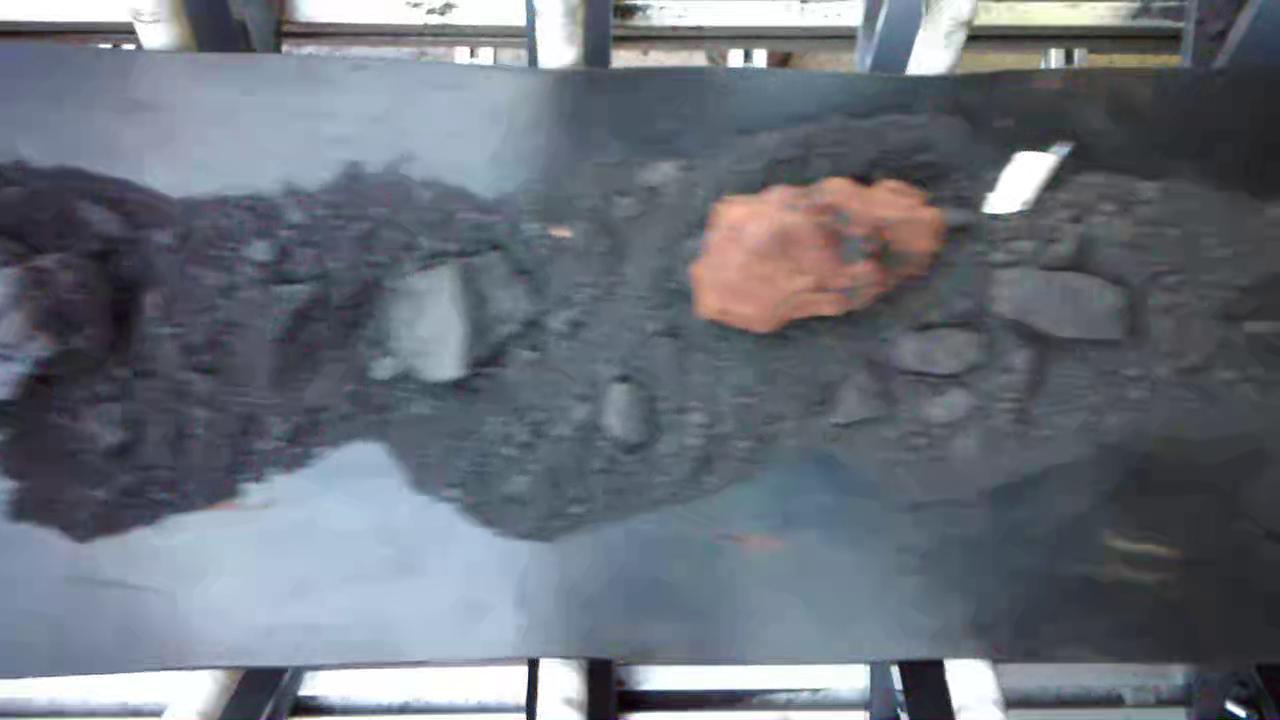conveyor: (3, 85, 1280, 653)
